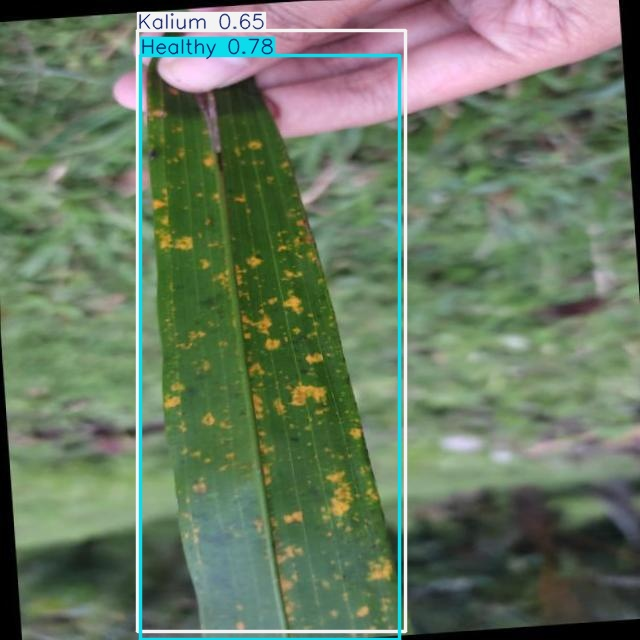Healthy: (140, 56, 400, 640)
Kalium: (138, 30, 405, 632)
